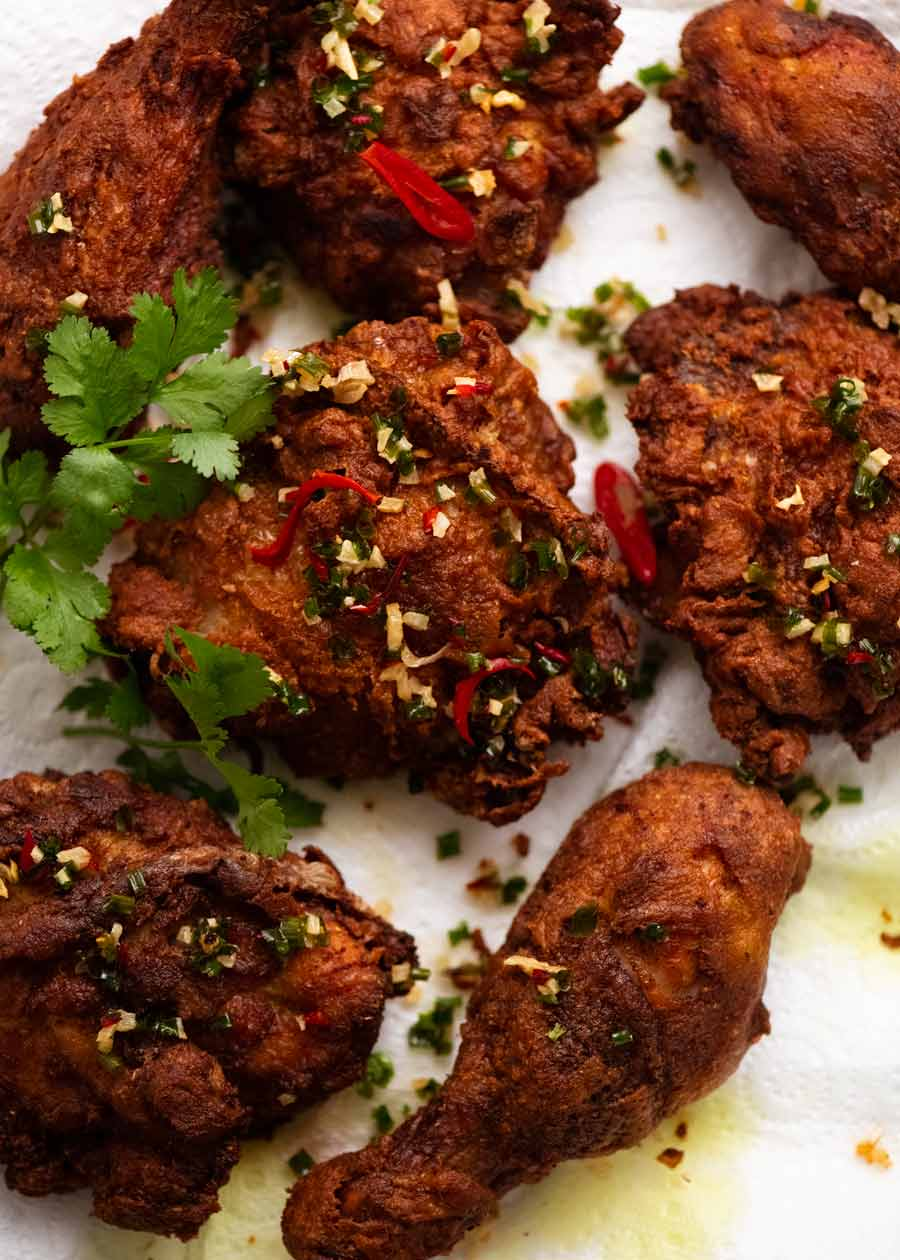Ayam: (334, 770, 848, 1260), (144, 318, 578, 764), (1, 764, 399, 1230), (620, 283, 900, 786), (659, 1, 900, 285)
